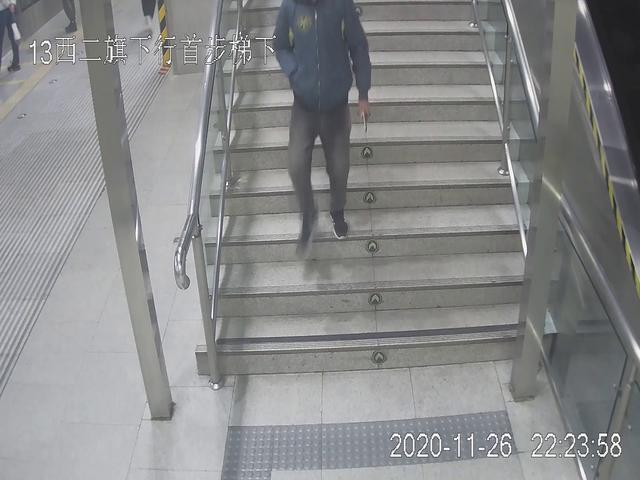person: (272, 1, 374, 261)
